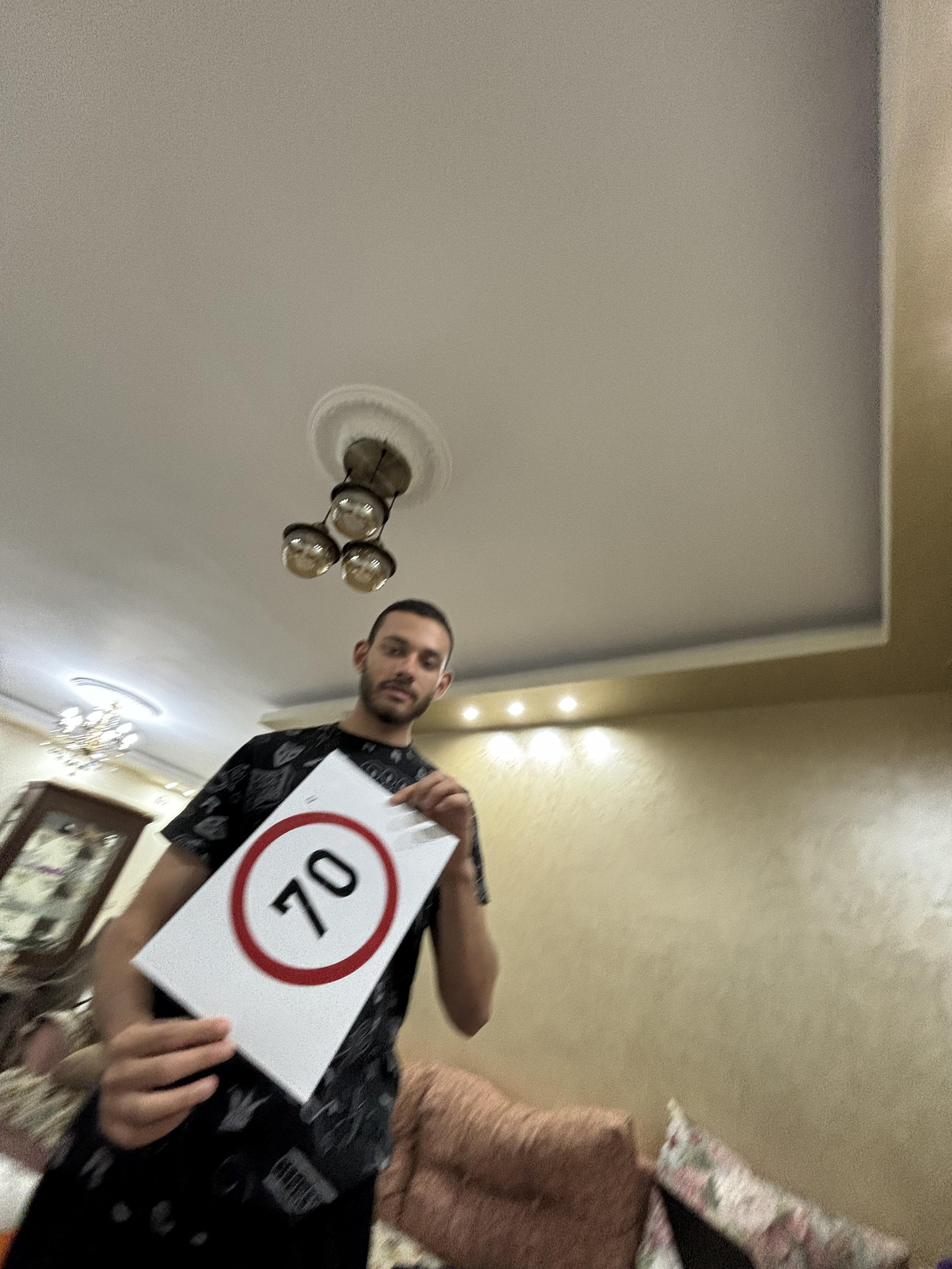70-Speed: (227, 811, 404, 985)
